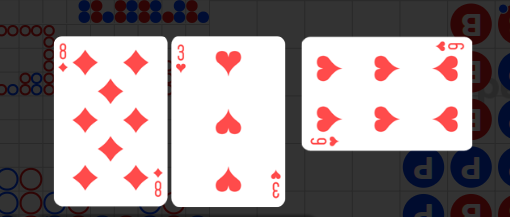3H: (175, 44, 188, 75)
6H: (433, 41, 465, 53)
8D: (58, 42, 69, 75)
